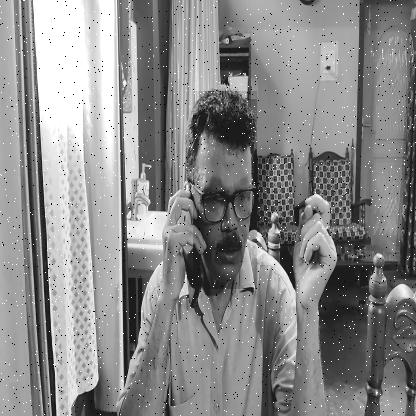Distracted: (193, 92, 257, 289)
